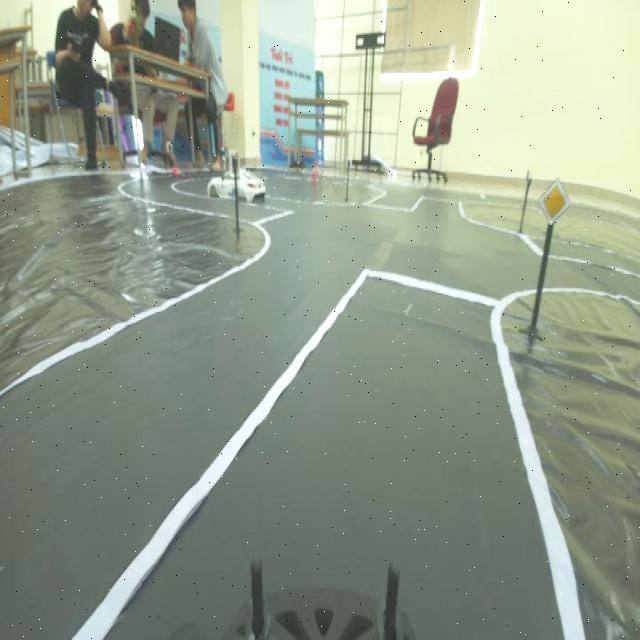priority: (542, 170, 568, 230)
